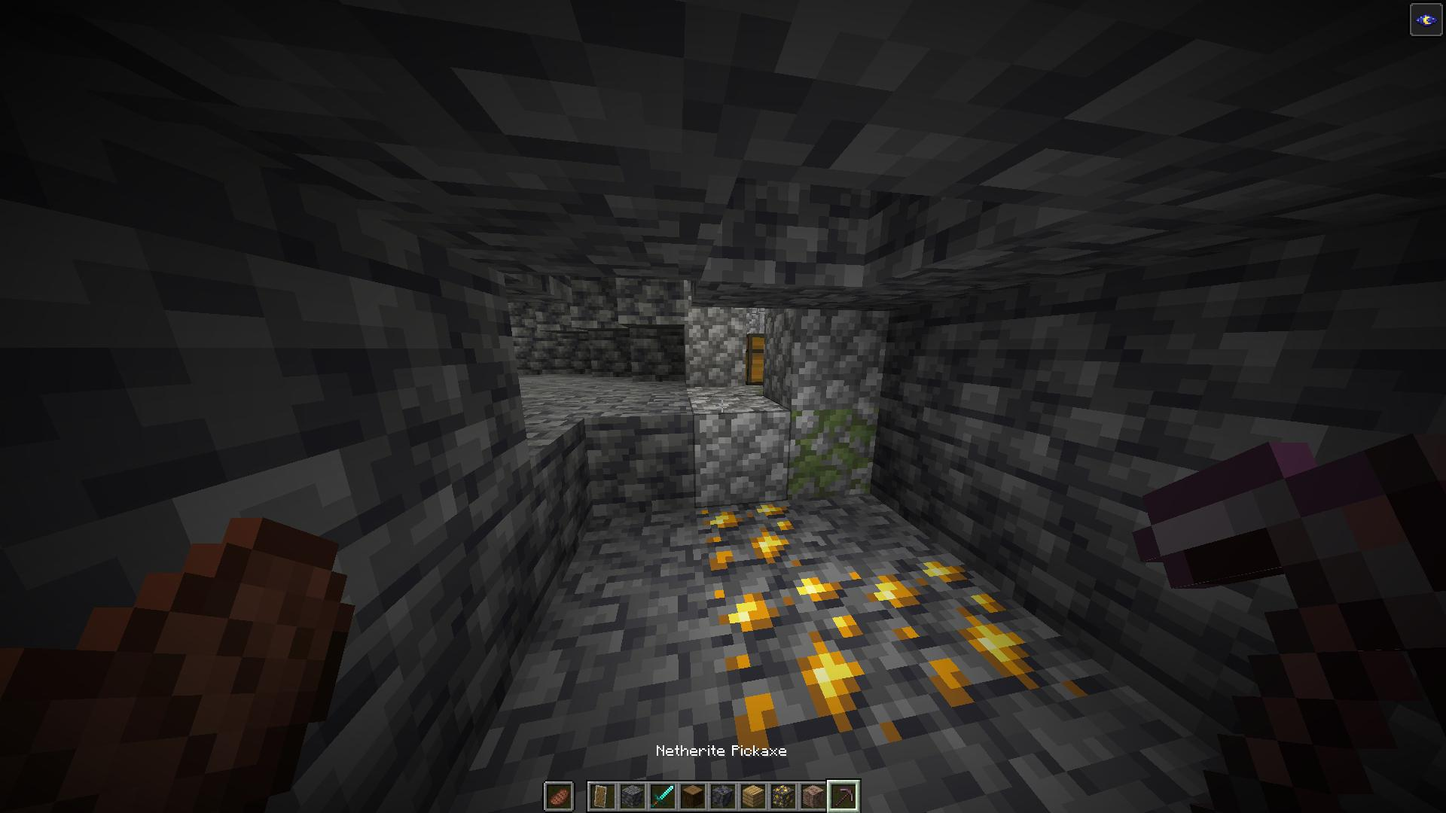gold ore: (863, 555, 1071, 710), (712, 575, 892, 736), (696, 501, 805, 573)
